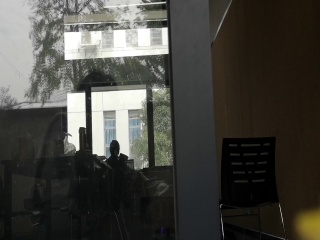room: (8, 6, 320, 239)
